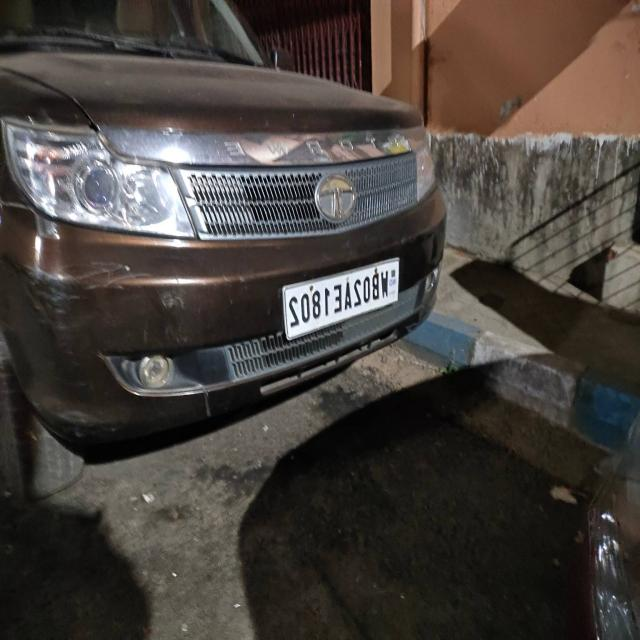license_plate: (278, 253, 402, 343)
